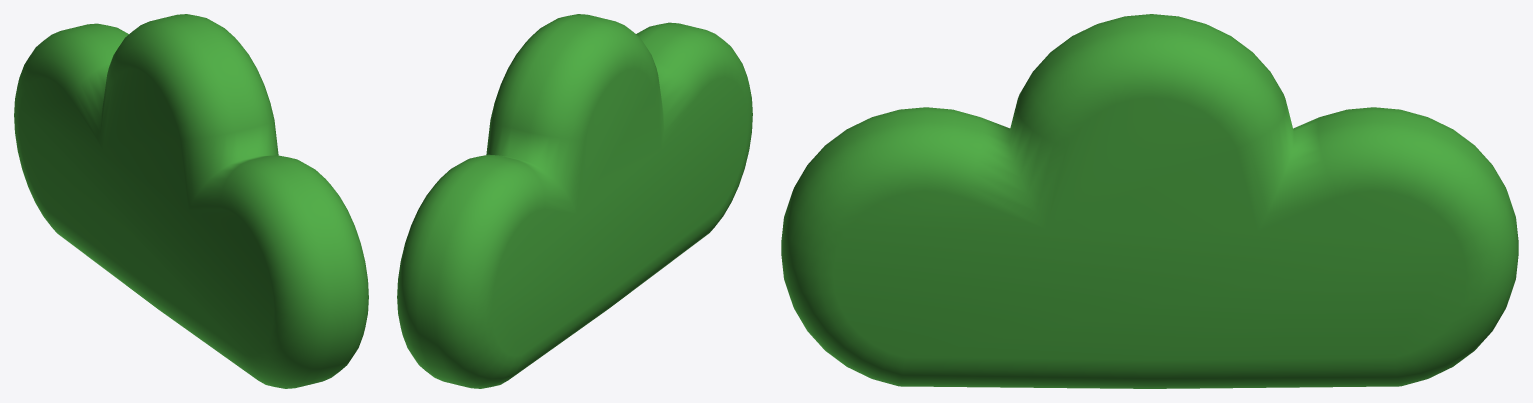
Rendered from buisson.fbx.
3 renders of one model, left to right at view 1: azimuth 30°, elevation 25°; view 2: azimuth 150°, elevation 25°; view 3: azimuth 270°, elevation 25°, orthographic. The views are drawn at different scales.
Parts seen in each view (by area): view 1: Circle.010; view 2: Circle.010; view 3: Circle.010.
Part boxes in pixels (bbox=[...]): Circle.010: bbox=[14, 14, 368, 388]; Circle.010: bbox=[397, 14, 752, 388]; Circle.010: bbox=[781, 14, 1518, 388].
Bounding box in the file's own units: 85.9 × 262 × 491.
